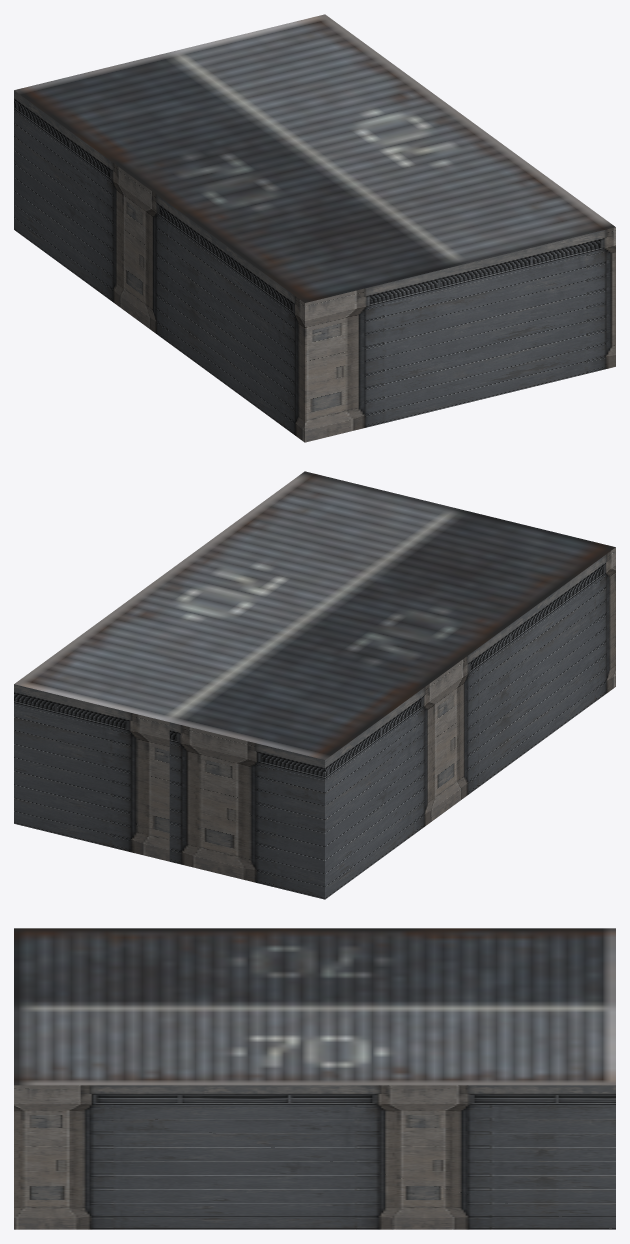
Rendered from hangar_light_00.glb.
3 renders of one model, top to bottom at view 1: azimuth 30°, elevation 25°; view 2: azimuth 150°, elevation 25°; view 3: azimuth 270°, elevation 25°, orthographic. The views are drawn at different scales.
Visible parts, largest first — view 1: buildings/saxarba/hangar_light/hangar_light_00; view 2: buildings/saxarba/hangar_light/hangar_light_00; view 3: buildings/saxarba/hangar_light/hangar_light_00.
Boxes of the visible parts, x1,y1,x2,y2 form: buildings/saxarba/hangar_light/hangar_light_00: (14, 14, 615, 442); buildings/saxarba/hangar_light/hangar_light_00: (14, 471, 615, 899); buildings/saxarba/hangar_light/hangar_light_00: (14, 928, 615, 1229).
Size of the model in its own units: 42 by 18 by 68.
